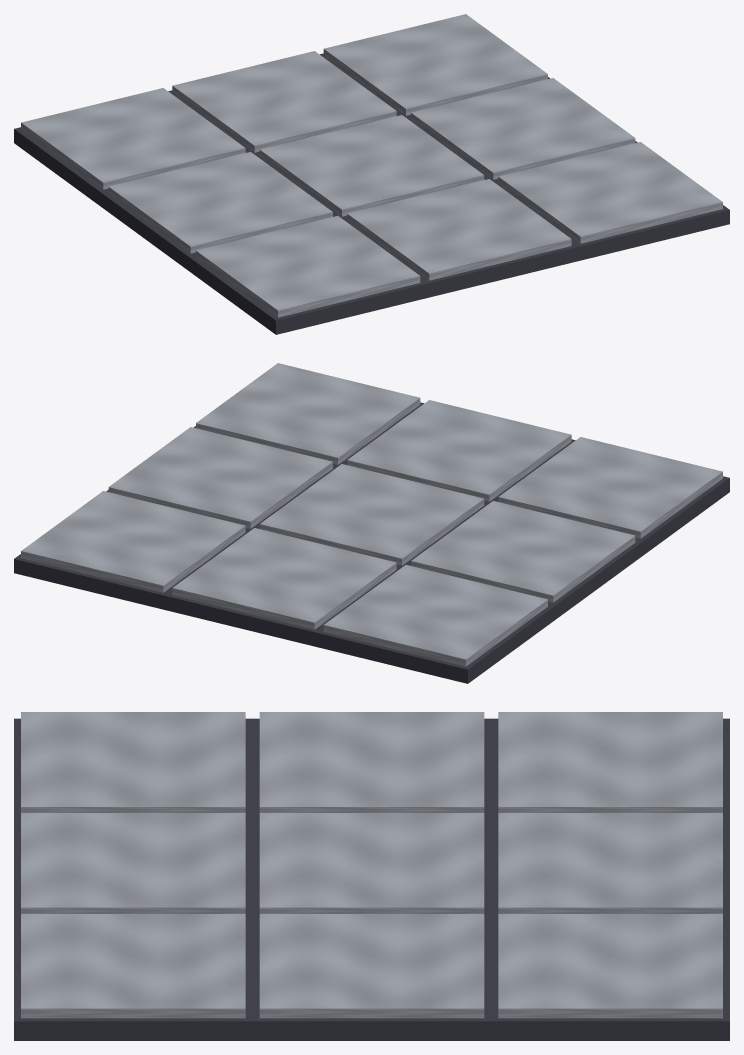
3 views of the same model, one above another, from view 1: azimuth 30°, elevation 25°; view 2: azimuth 150°, elevation 25°; view 3: azimuth 270°, elevation 25° (orthographic). The views are drawn at different scales.
Visible parts, largest first — view 1: crypt-floor-tile; view 2: crypt-floor-tile; view 3: crypt-floor-tile.
Boxes of the visible parts, left/top/right/bottom form: crypt-floor-tile: left=14, top=14, right=729, bottom=334; crypt-floor-tile: left=14, top=363, right=729, bottom=683; crypt-floor-tile: left=14, top=712, right=729, bottom=1040.
Bounding box in the file's own units: 4 × 0.18 × 4.
Materials: 2 (1 with a texture image).
